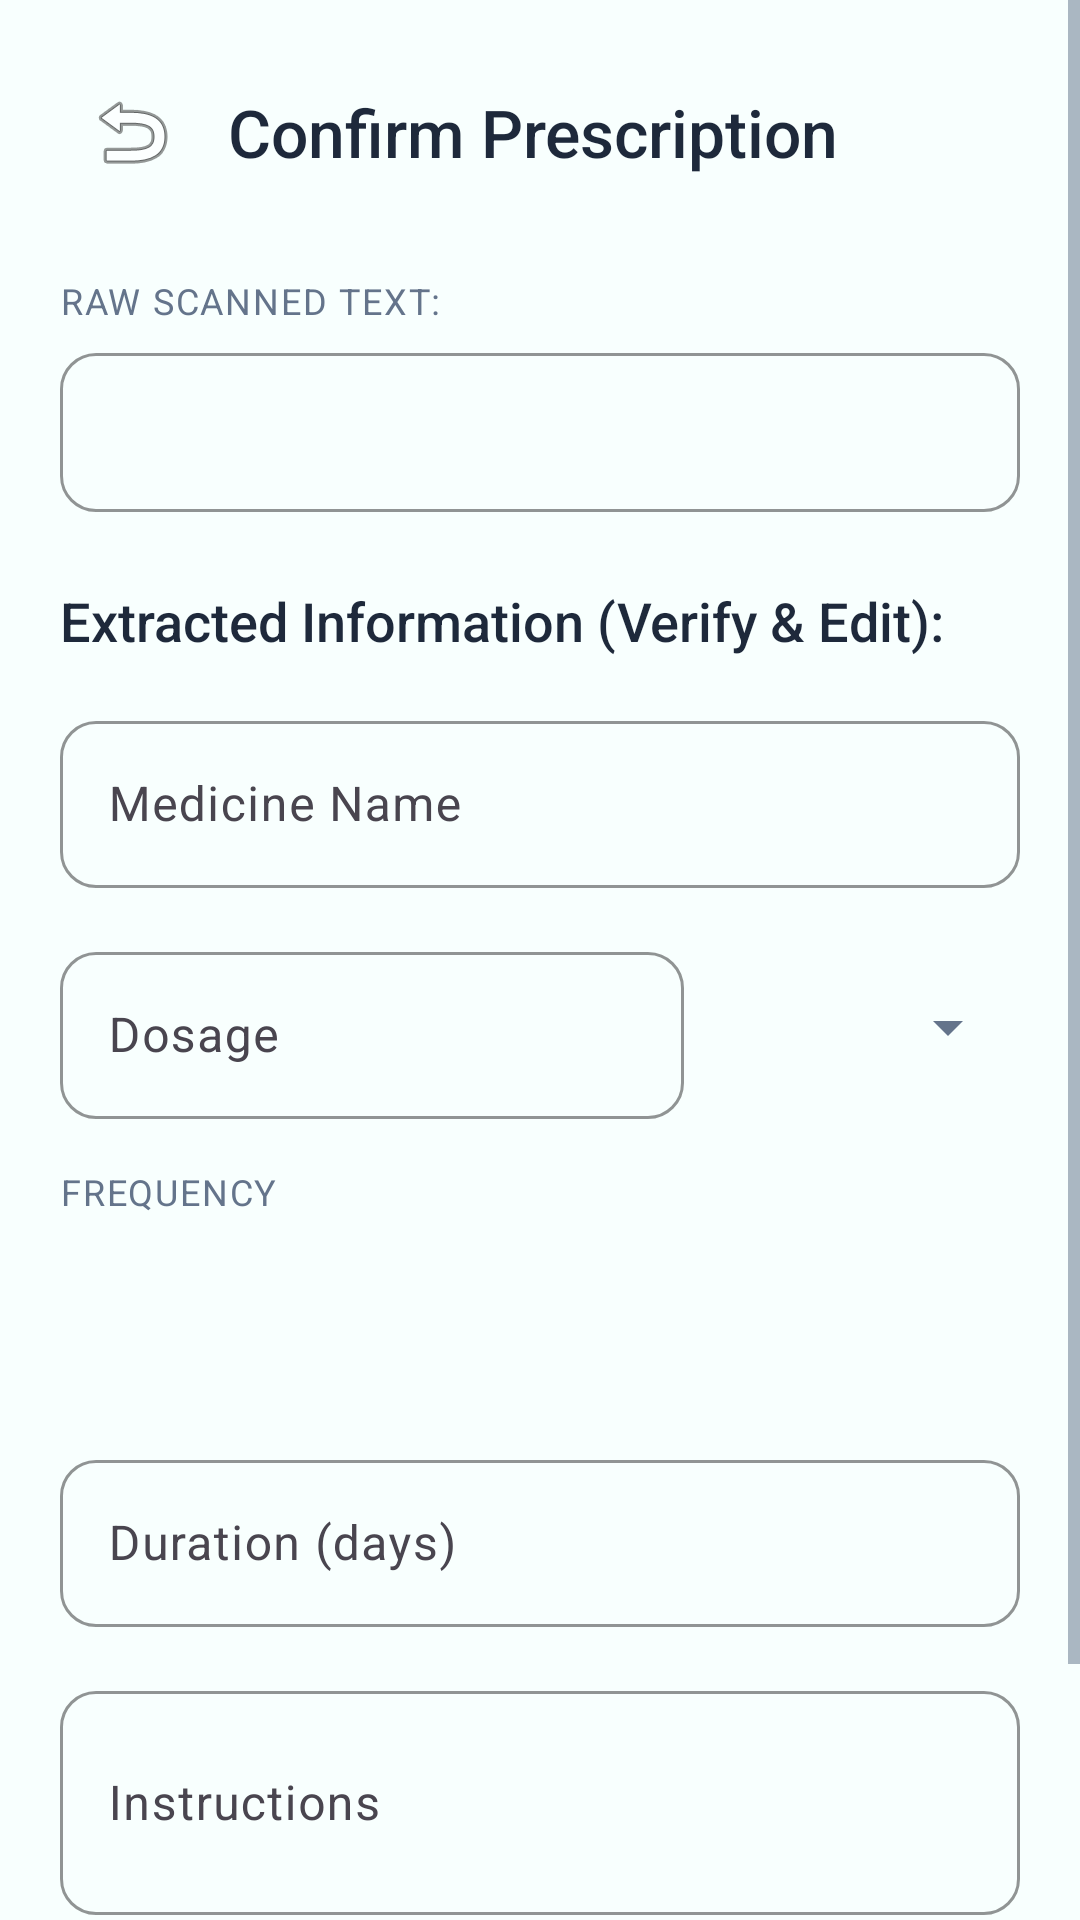

Locate icon controls on the screen. Image size 1080 × 1920, boxes as (x1, y1, x2, y2).
Back: (99, 101, 168, 164)
